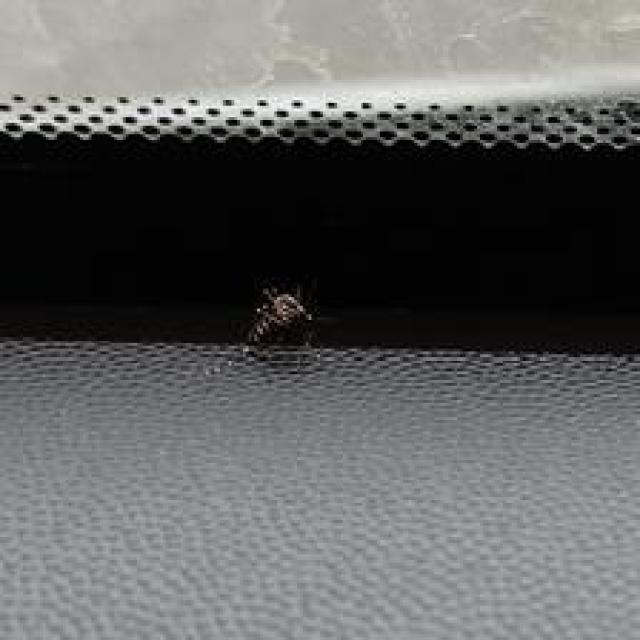Aedes albopictus: (244, 283, 316, 348)
